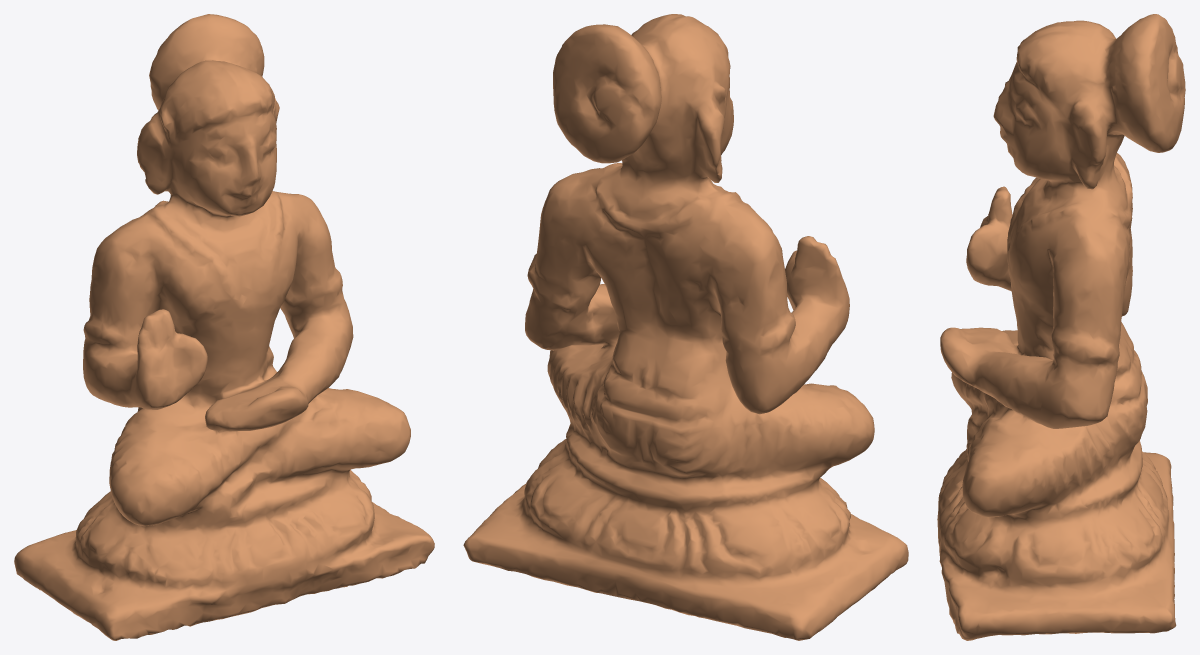
Rendered from Vainavam_Nammaazhvar_16.glb.
3 renders of one model, left to right at view 1: azimuth 30°, elevation 25°; view 2: azimuth 150°, elevation 25°; view 3: azimuth 270°, elevation 25°, orthographic. The views are drawn at different scales.
Visible parts, largest first — view 1: Vainavam_Nammaazhvar_16; view 2: Vainavam_Nammaazhvar_16; view 3: Vainavam_Nammaazhvar_16.
Boxes of the visible parts, x1=… form: Vainavam_Nammaazhvar_16: x1=14, y1=14, x2=434, y2=640; Vainavam_Nammaazhvar_16: x1=463, y1=14, x2=908, y2=640; Vainavam_Nammaazhvar_16: x1=937, y1=14, x2=1185, y2=640.
Bounding box in the file's own units: 0.354 × 0.5257 × 0.2141.
